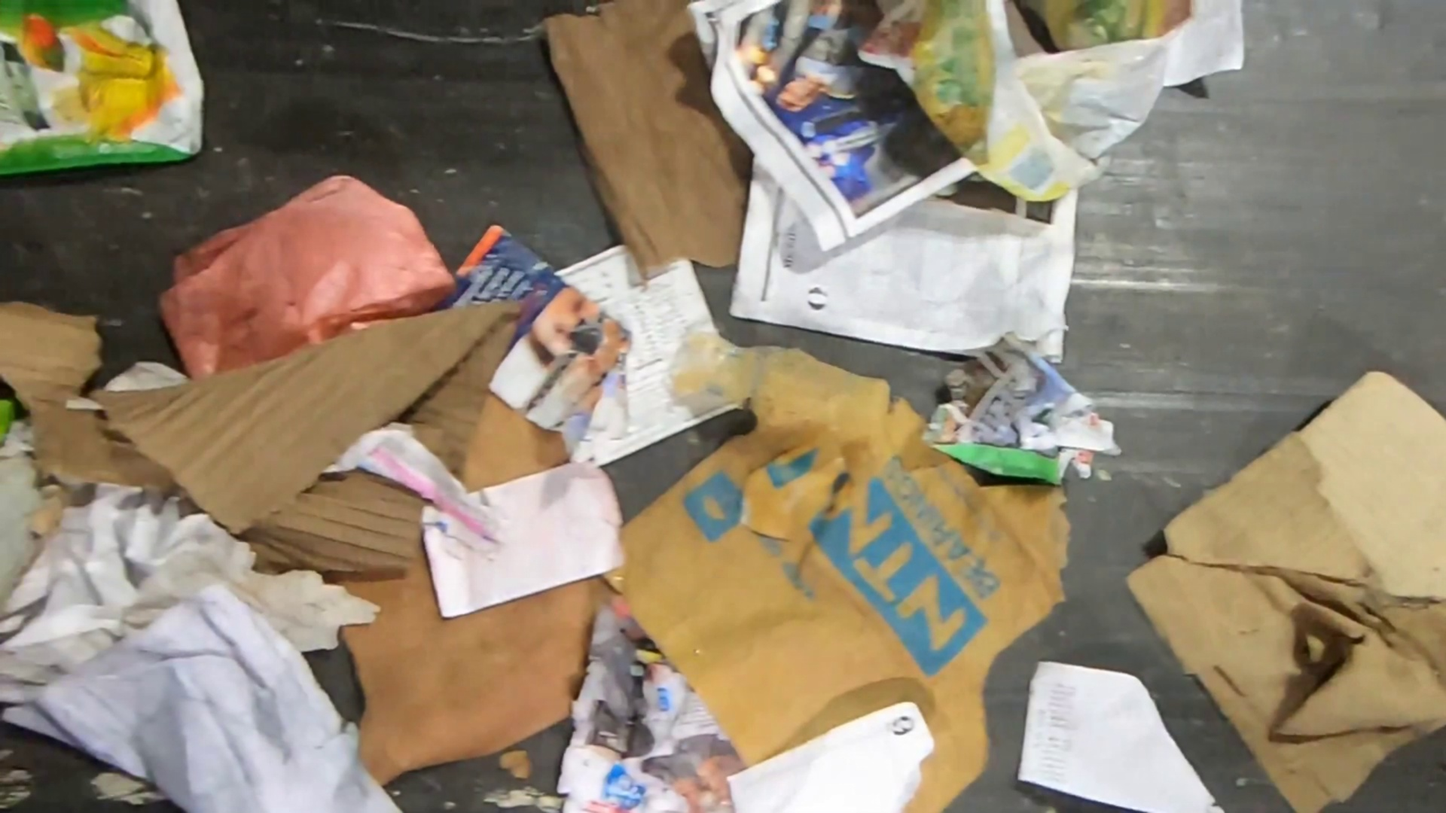cardboard: (622, 330, 1070, 812), (0, 288, 569, 574), (1124, 371, 1446, 811), (323, 531, 599, 787), (544, 2, 757, 278)
plastic: (857, 1, 1196, 203), (157, 173, 458, 384), (1, 0, 207, 176)
